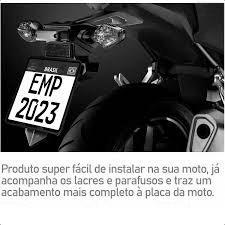placa_mercosul: (6, 57, 82, 133)
